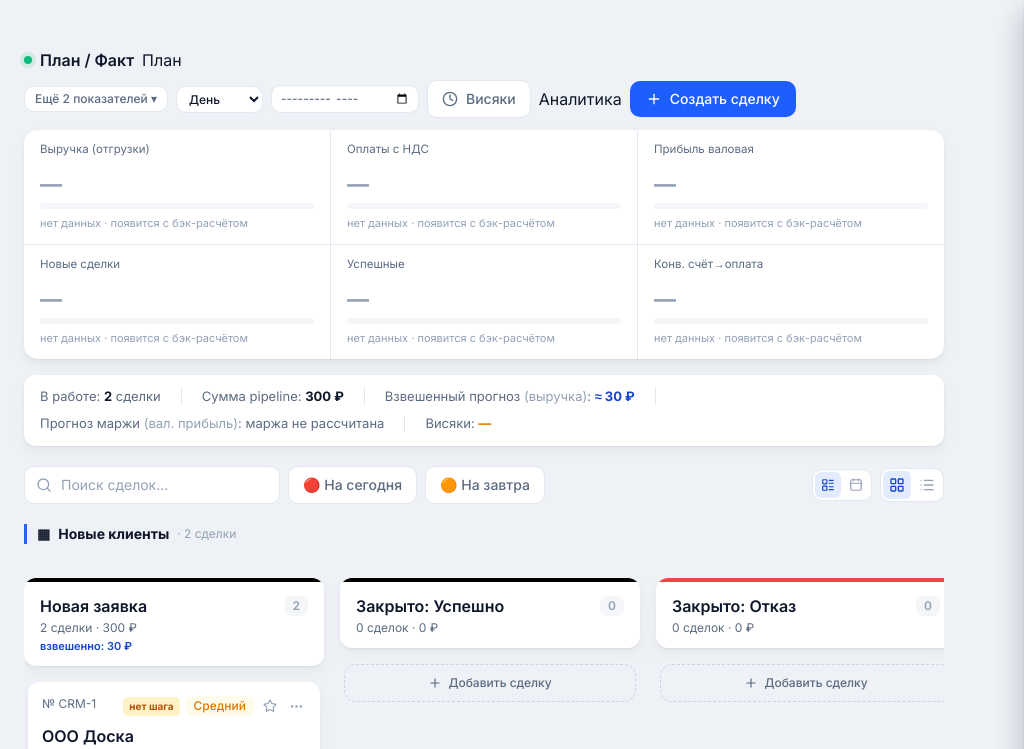
Scenario: DealsWorkspace (канбан) › фильтры действуют и в «Все вместе»: поиск скрывает карточки секций
Expected: the text "ООО Доска" is shown, [42,726,134,746]
Step 1. Type "несуществующий" into the field with placeholder "Поиск сделок..." → coordinates (152, 485), box [24,466,280,504]
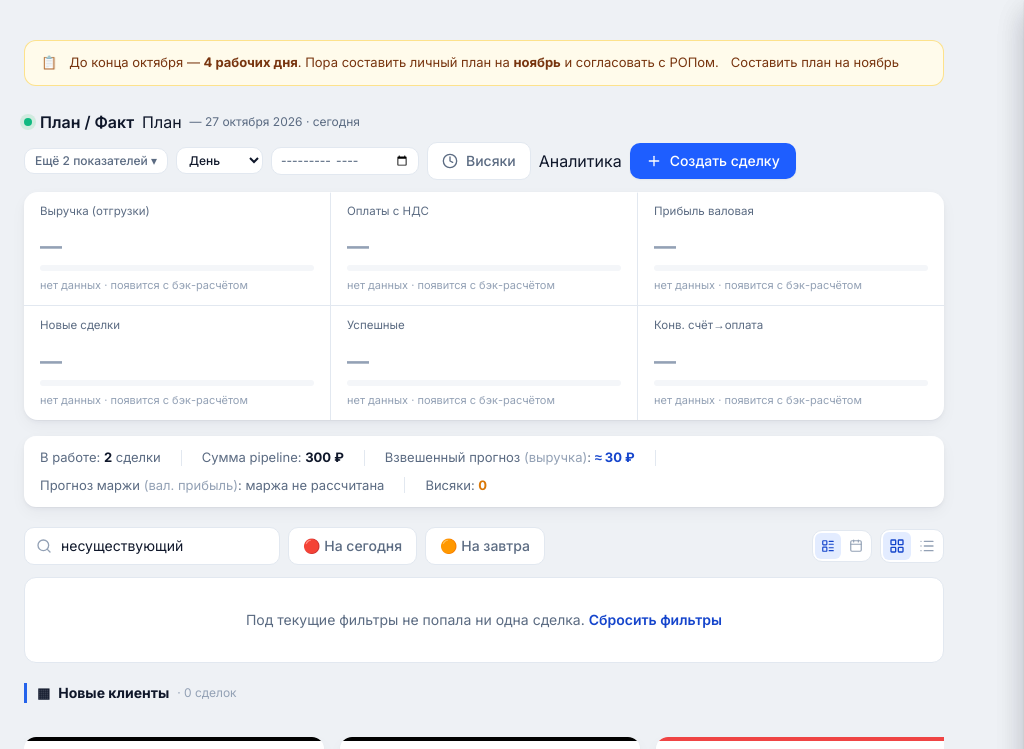
Expected: the link "ООО Доска" is gone
